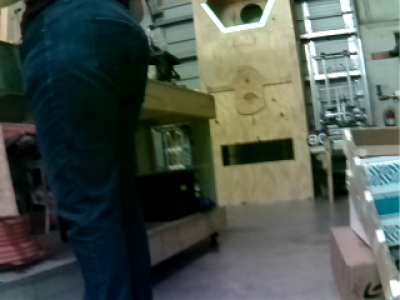target: (198, 1, 280, 35)
